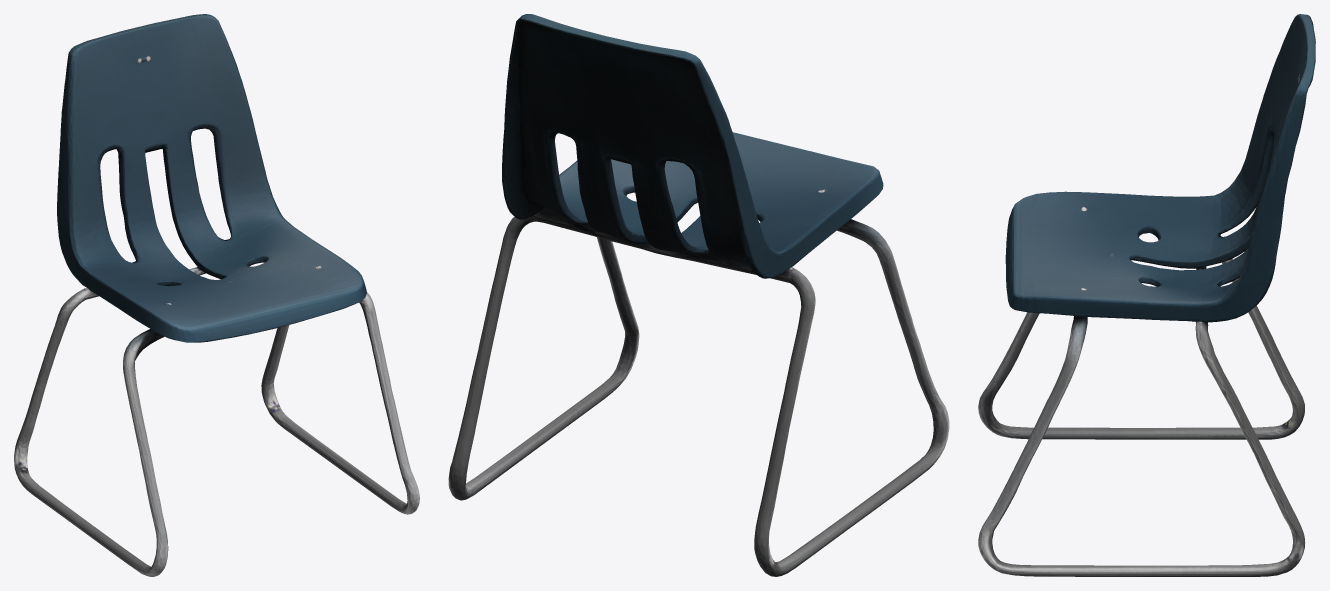
File: chair2.glb
3 renders of one model, left to right at view 1: azimuth 30°, elevation 25°; view 2: azimuth 150°, elevation 25°; view 3: azimuth 270°, elevation 25°, orthographic. The views are drawn at different scales.
Visible parts, largest first — view 1: world; view 2: world; view 3: world.
Boxes of the visible parts, left/top/right/bottom form: world: left=14, top=14, right=419, bottom=576; world: left=448, top=14, right=949, bottom=576; world: left=978, top=14, right=1315, bottom=576.
Size of the model in its own units: 0.6656 by 1 by 0.6667.
Materials: 1 (1 with a texture image).
